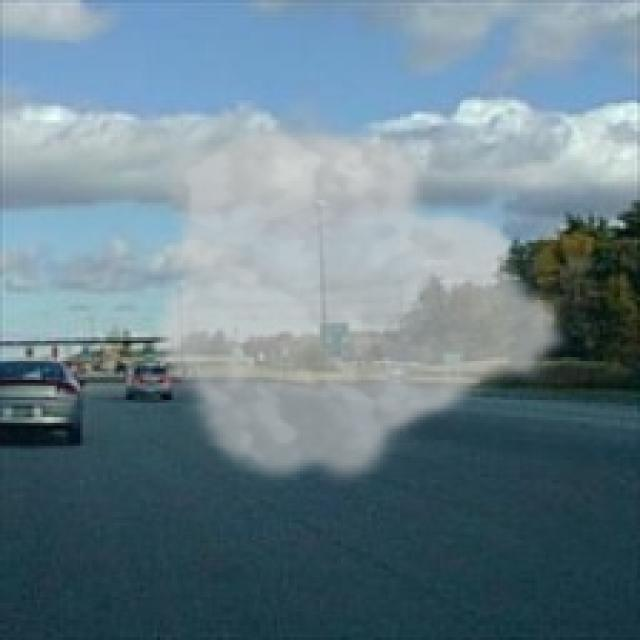smoke: (149, 120, 574, 491)
